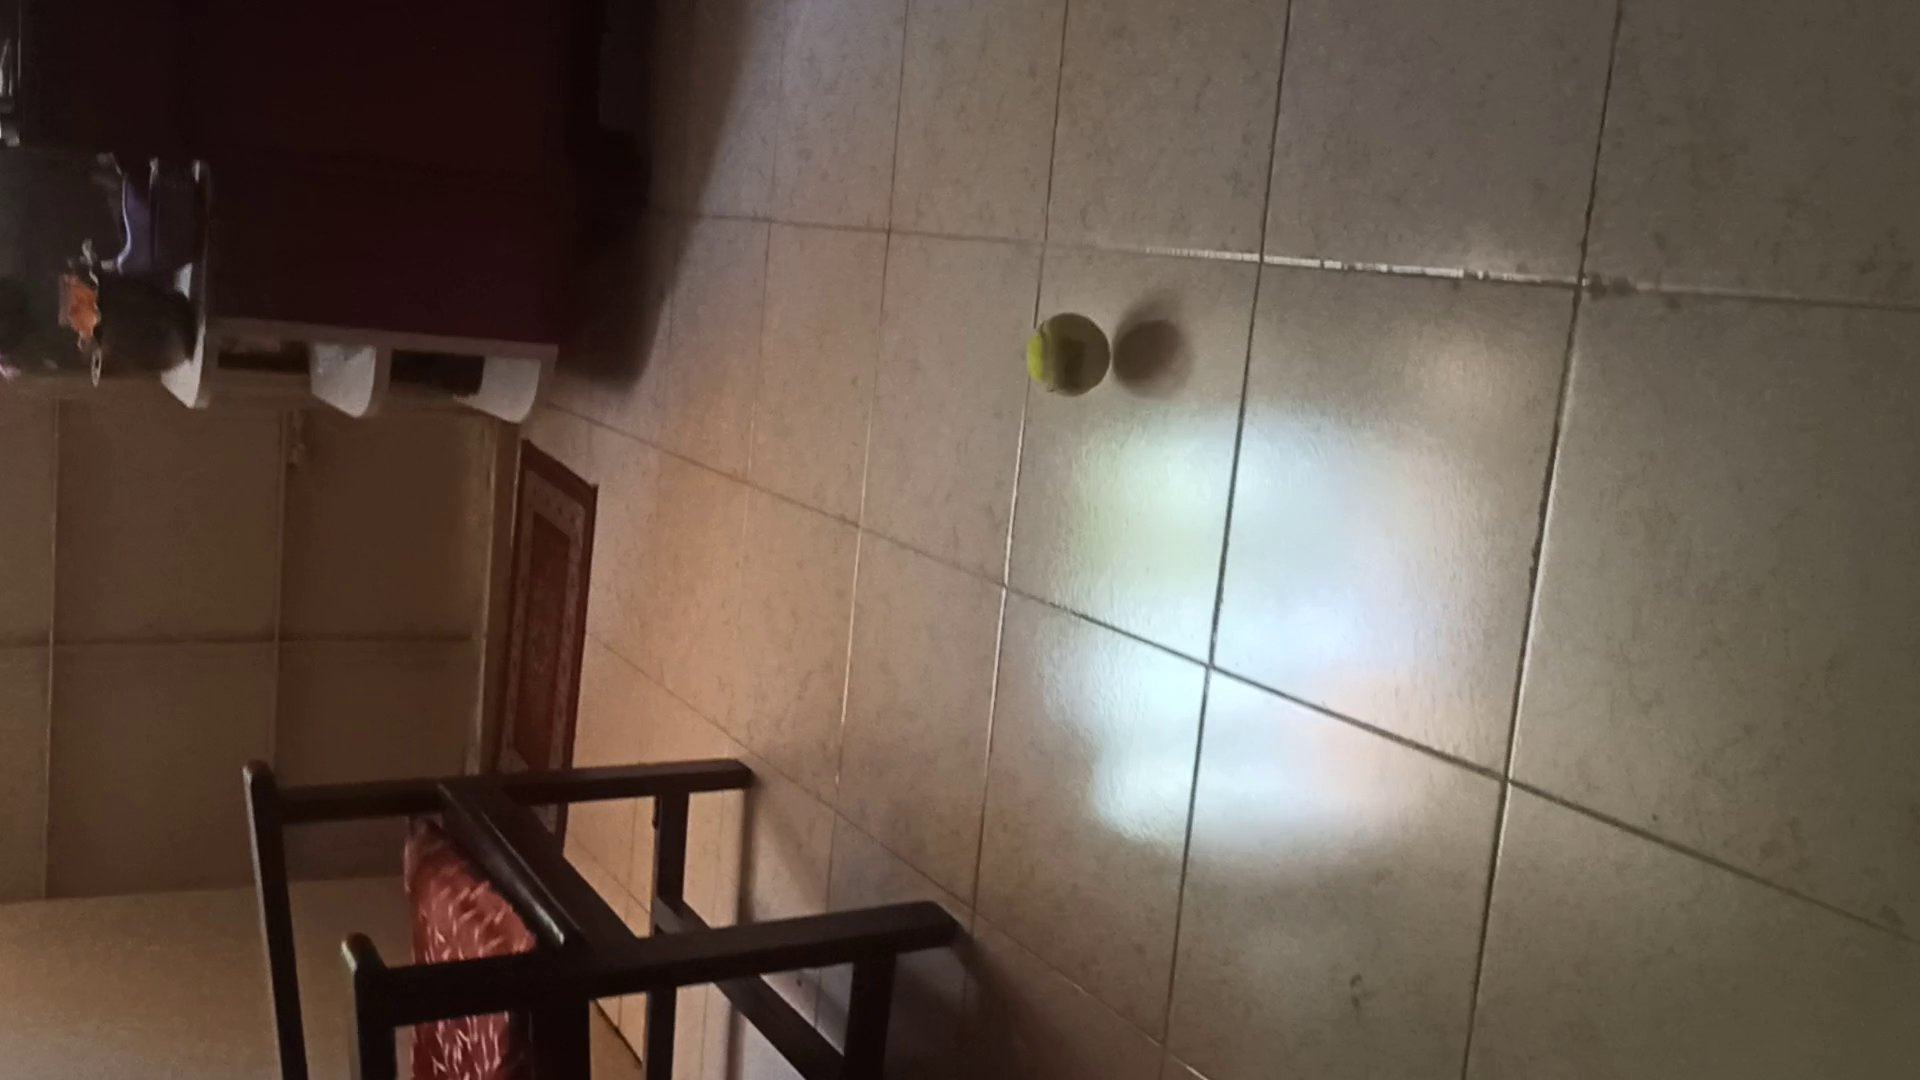Tennis-Ball: (1025, 313, 1112, 396)
